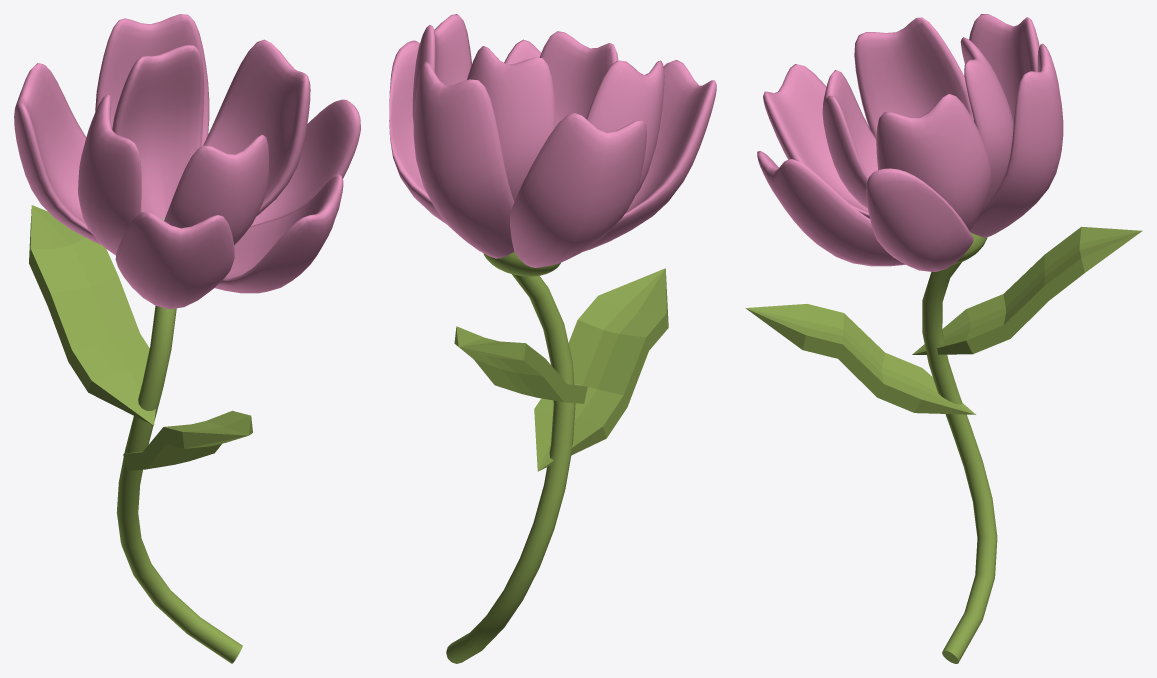
File: Flower.glb
3 renders of one model, left to right at view 1: azimuth 30°, elevation 25°; view 2: azimuth 150°, elevation 25°; view 3: azimuth 270°, elevation 25°, orthographic. The views are drawn at different scales.
Parts seen in each view (by area): view 1: 立方体, 平面.008, 平面.007, 平面.004, 贝塞尔曲线, 平面.002, 平面.006, 平面.005, 平面.003, 平面.009, 平面, 立方体.001; view 2: 平面.002, 平面, 立方体.001, 贝塞尔曲线, 平面.004, 平面.008, 平面.003, 立方体, 平面.005, 平面.009, 平面.007, 球体 (+1 smaller); view 3: 平面.007, 平面.003, 立方体.001, 立方体, 贝塞尔曲线, 平面, 平面.009, 平面.006, 平面.004, 平面.005, 平面.008, 平面.002.
Part boxes in pixels (box(x1,y1,x2,y2)): 立方体: box(29, 205, 155, 425); 平面.008: box(112, 45, 204, 218); 平面.007: box(203, 39, 310, 216); 平面.004: box(115, 211, 234, 309); 贝塞尔曲线: box(116, 306, 242, 663); 平面.002: box(14, 63, 101, 244); 平面.006: box(215, 174, 343, 293); 平面.005: box(164, 134, 269, 245); 平面.003: box(78, 94, 141, 255); 平面.009: box(251, 99, 360, 225); 平面: box(95, 14, 209, 146); 立方体.001: box(123, 410, 252, 470); 平面.002: box(509, 112, 646, 267); 平面: box(413, 61, 514, 258); 立方体.001: box(534, 268, 668, 471); 贝塞尔曲线: box(446, 274, 575, 663); 平面.004: box(583, 60, 716, 251); 平面.008: box(467, 46, 555, 201); 平面.003: box(586, 60, 664, 195); 立方体: box(454, 326, 587, 403); 平面.005: box(539, 31, 618, 125); 平面.009: box(389, 40, 446, 224); 平面.007: box(412, 14, 471, 123); 球体: box(483, 252, 560, 276); 平面.007: box(876, 94, 990, 230); 平面.003: box(854, 17, 973, 138); 立方体.001: box(745, 304, 975, 414); 立方体: box(912, 226, 1142, 354); 贝塞尔曲线: box(922, 262, 997, 663); 平面: box(970, 43, 1063, 237); 平面.009: box(866, 168, 973, 271); 平面.006: box(757, 151, 905, 266); 平面.004: box(763, 64, 869, 218); 平面.005: box(822, 70, 877, 208); 平面.008: box(960, 37, 1013, 212); 平面.002: box(964, 14, 1039, 123).
Bounding box in the file's own units: 3.06 × 6.39 × 3.91.
